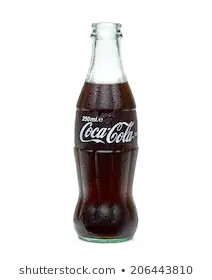coke-glass-bottle: (71, 17, 140, 243)
